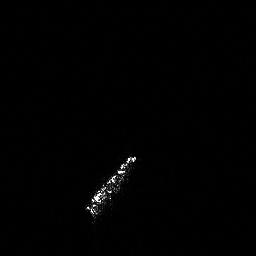ship: (81, 151, 142, 226)
